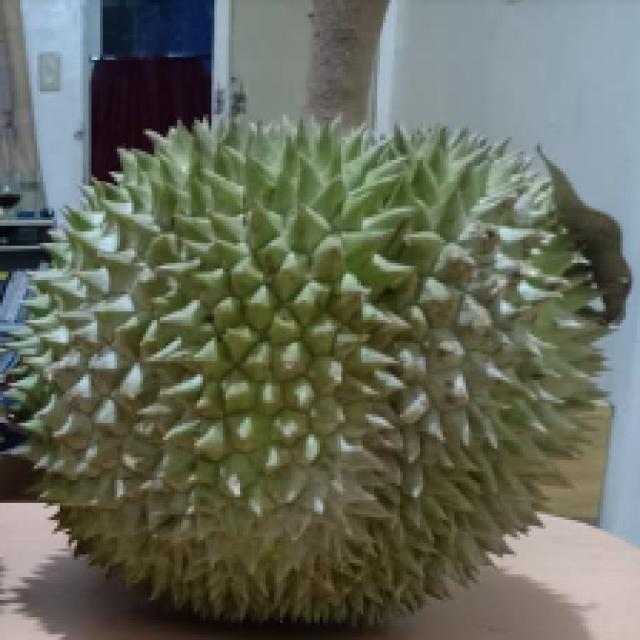d101: (11, 99, 608, 610)
